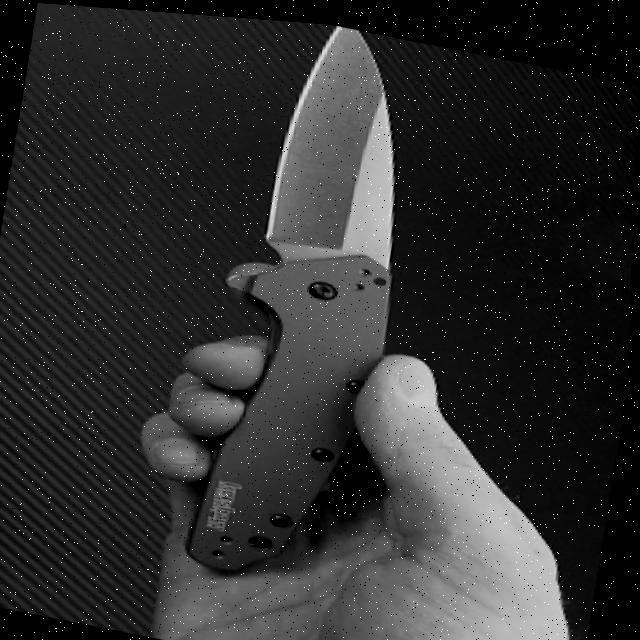knife: (172, 11, 439, 620)
